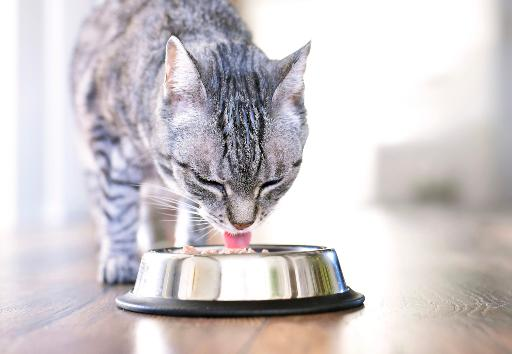cat_eating: (72, 0, 364, 317)
